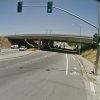Bridge: (8, 27, 94, 52)
